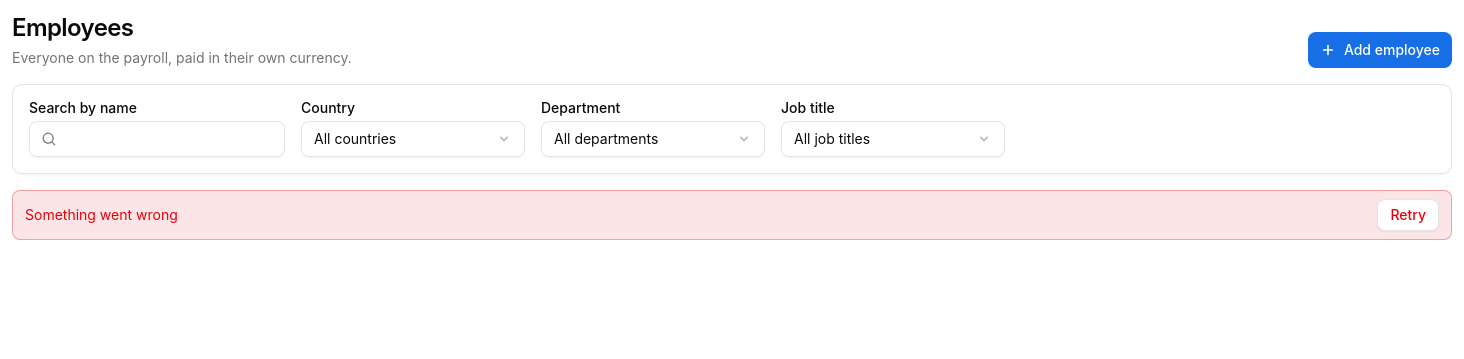
EmployeesPage › shows the error and loads again on Retry when the request fails
Expected: the message shows "Something went wrong", [25,206,178,223]
Click the button "Retry" at {"x": 1408, "y": 215}, box [1377,199,1439,231]
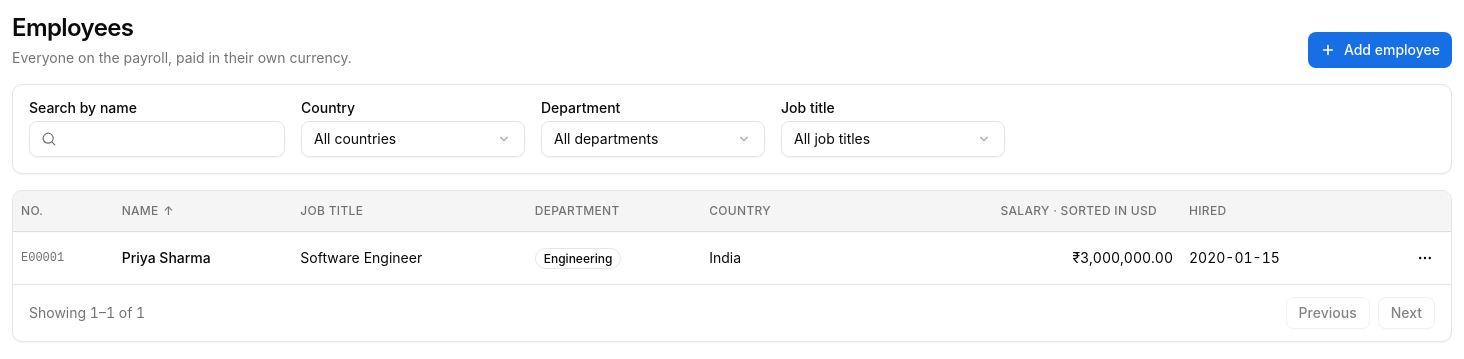
Expected: the row "E00001" is shown, [13,231,1451,284]
Expected: the message "Something went wrong Retry" is gone
